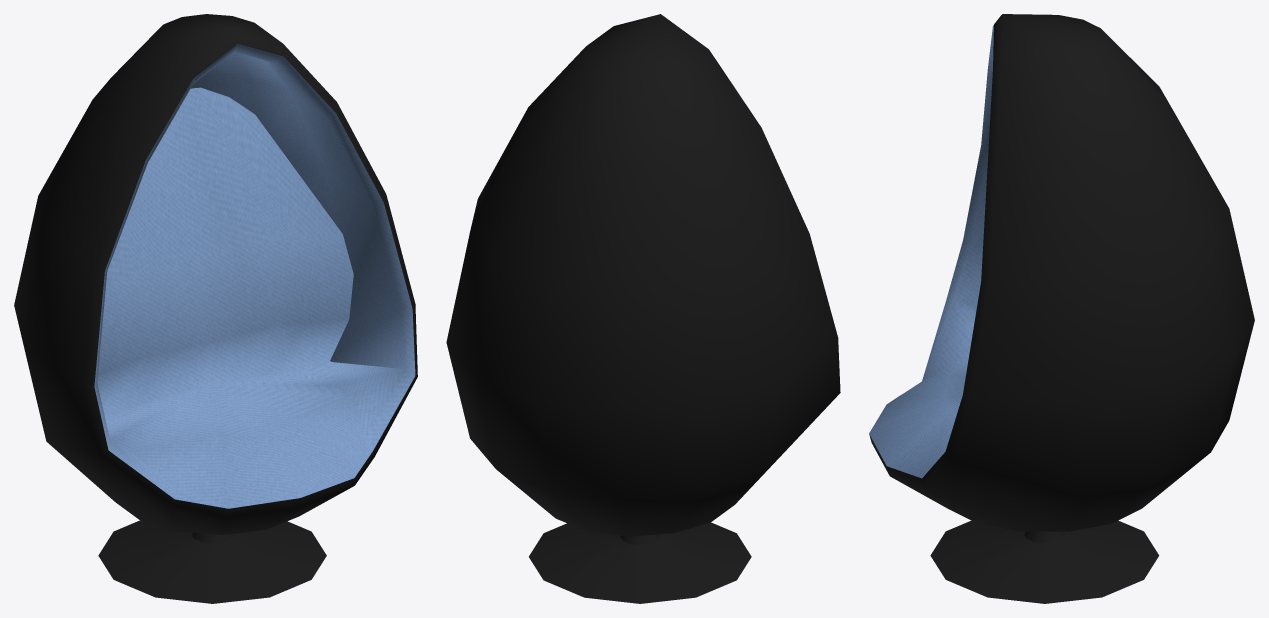
Rendered from Eggchair_B_13.FBX.
3 views of the same model, side by side, from view 1: azimuth 30°, elevation 25°; view 2: azimuth 150°, elevation 25°; view 3: azimuth 270°, elevation 25° (orthographic). The views are drawn at different scales.
Parts seen in each view (by area): view 1: Egg_chair; view 2: Egg_chair; view 3: Egg_chair.
Part boxes in pixels (x1,y1,x2,y2): Egg_chair: [14, 14, 417, 603]; Egg_chair: [446, 14, 840, 603]; Egg_chair: [869, 14, 1254, 603].
Bounding box in the file's own units: 168 × 261 × 169.
